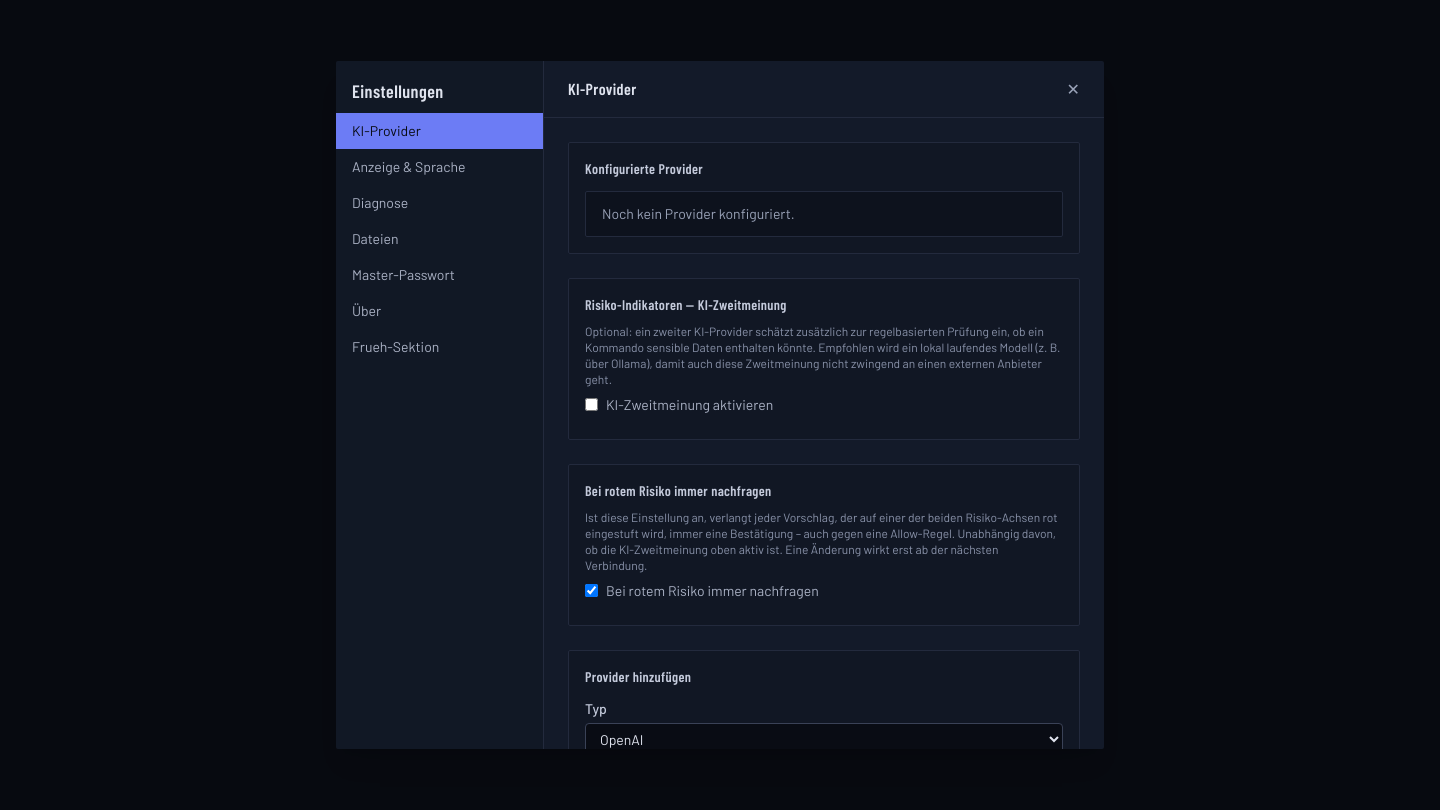
Scenario: SettingsScreen late-registered sections (issue #243) › keeps the selected category when a section is registered later
Click the button "Frueh-Sektion" at (440, 347), box 336,329 -> 543,365
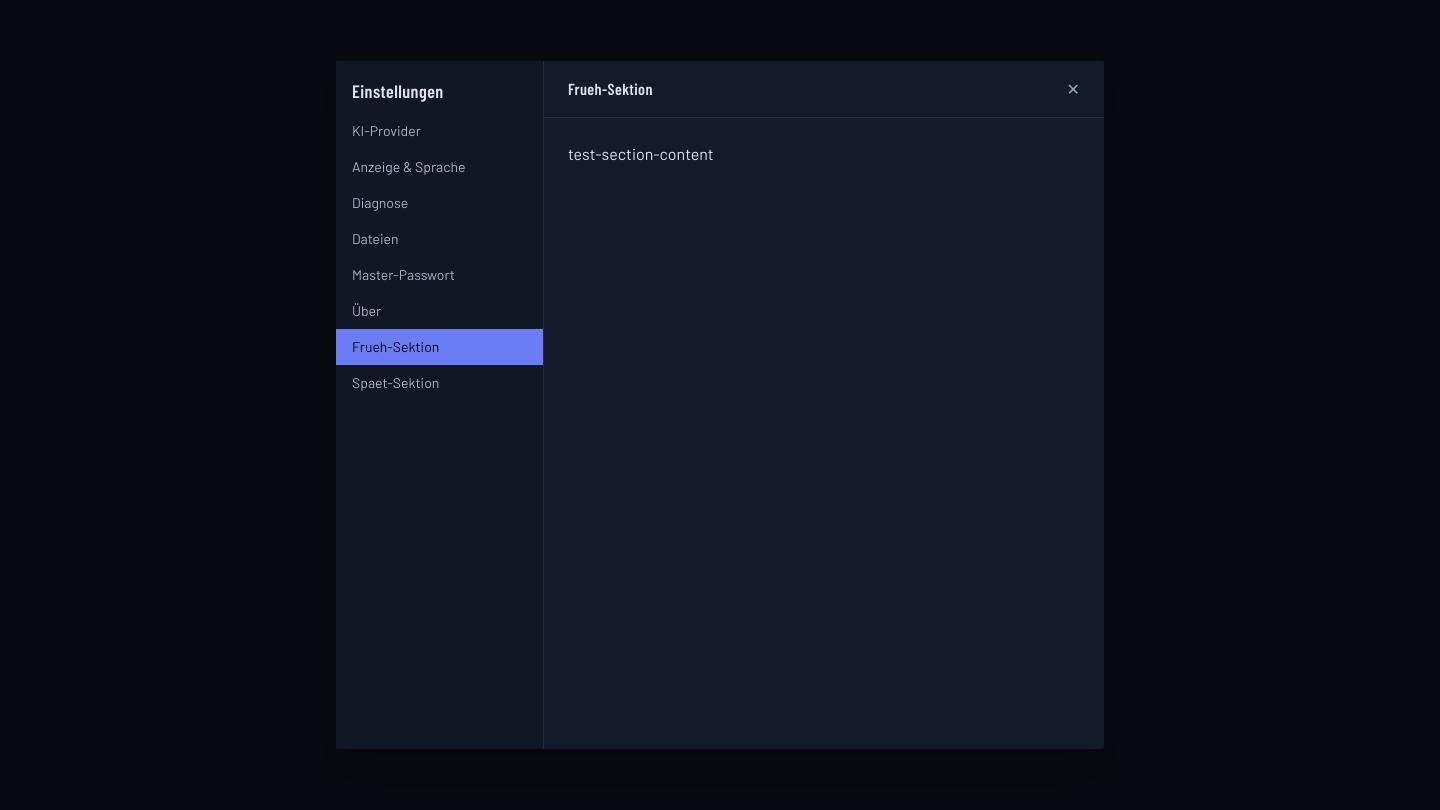
expect the button "Spaet-Sektion" is shown: met, box 336,365 -> 543,401
